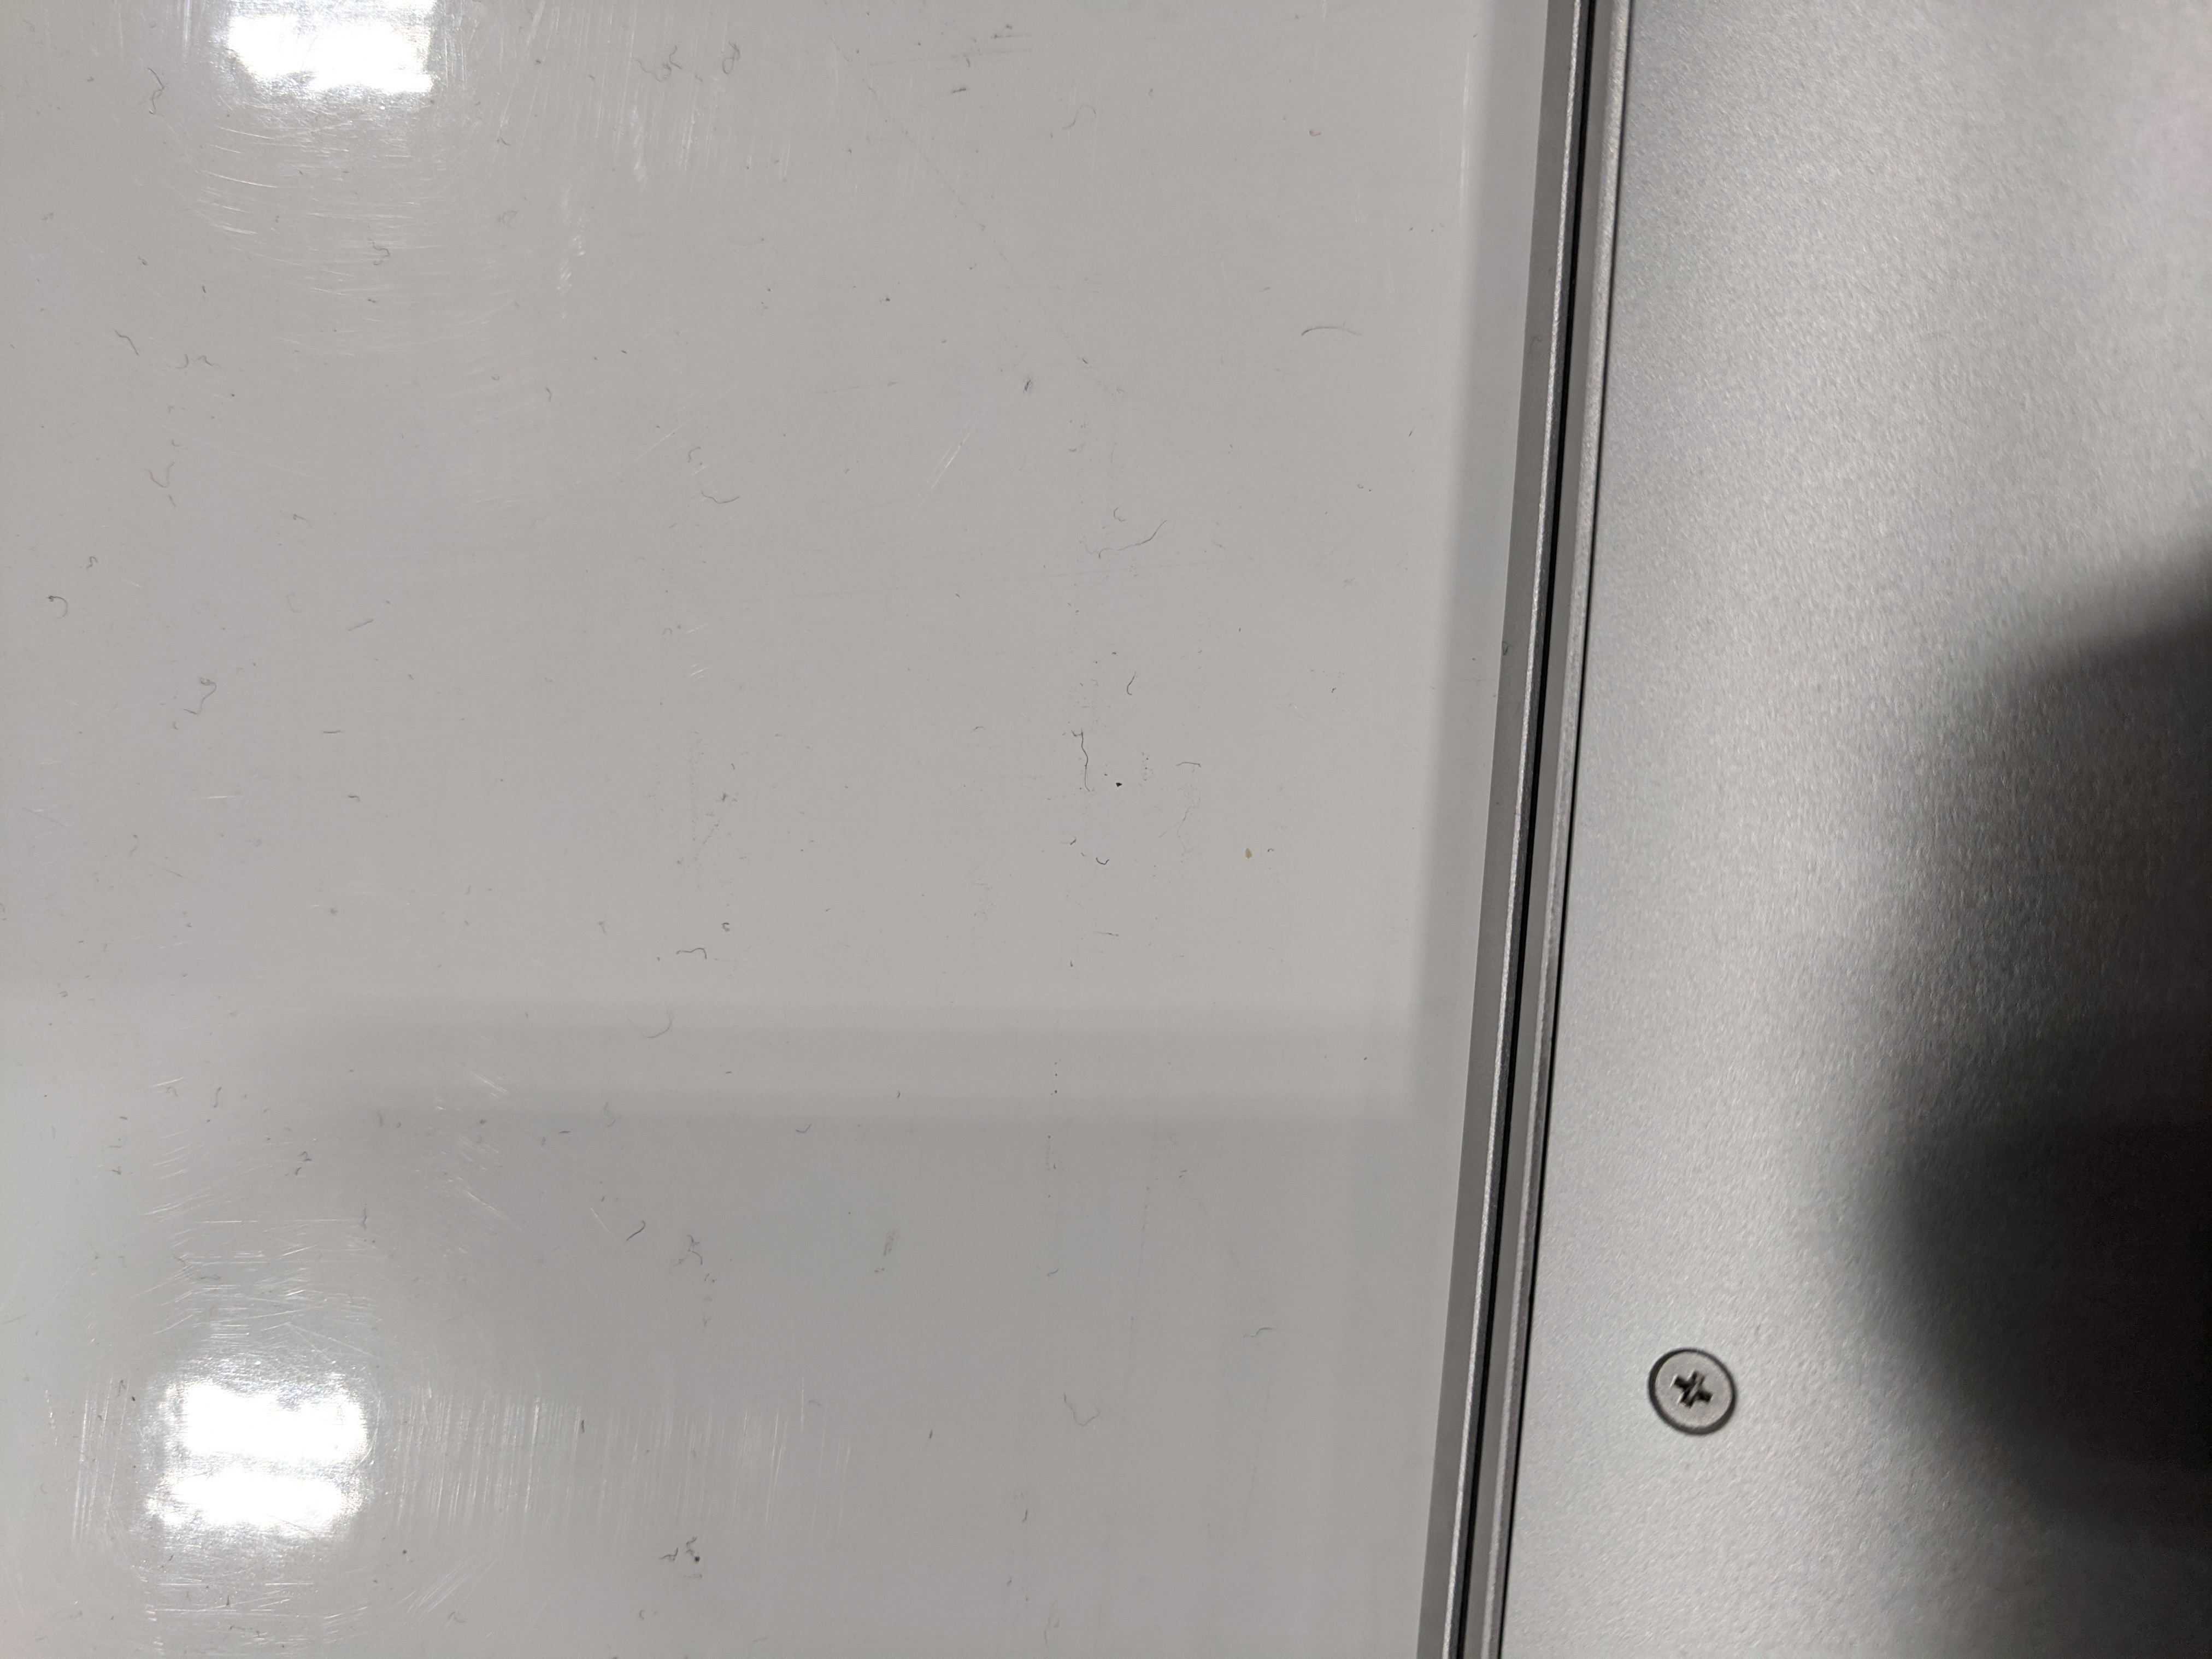cross_recessed_screw: (1637, 1330, 1752, 1443)
